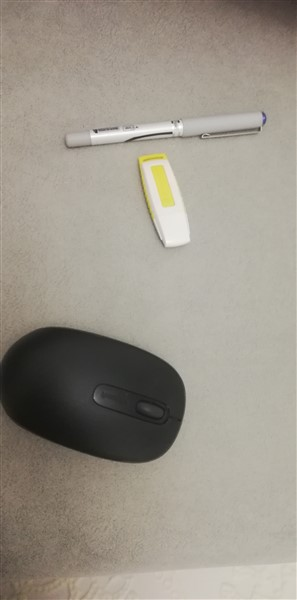flash disk: (134, 150, 196, 252)
mouse: (1, 322, 189, 471)
pilot kalem: (57, 103, 269, 144)
